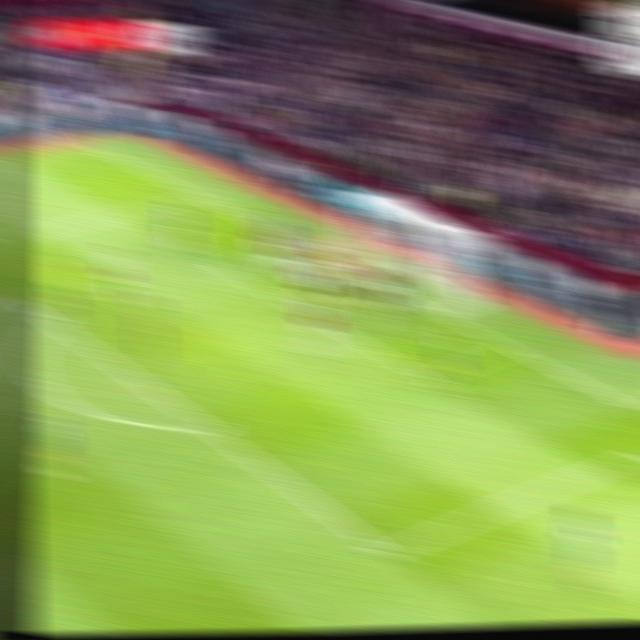bigarea_bottom_inner: (366, 534, 407, 569)
bigarea_top_outter: (180, 184, 212, 206)
bottom_arc_area_intersection: (191, 413, 226, 441)
corner: (70, 135, 107, 153)
smallarea_bottom_inner: (409, 360, 446, 391)
smallarea_bottom_outter: (492, 333, 528, 360)
smallarea_top_inner: (204, 254, 237, 276)
smallarea_top_outter: (280, 234, 310, 255)
top_arc_area_intersection: (34, 308, 67, 333)
